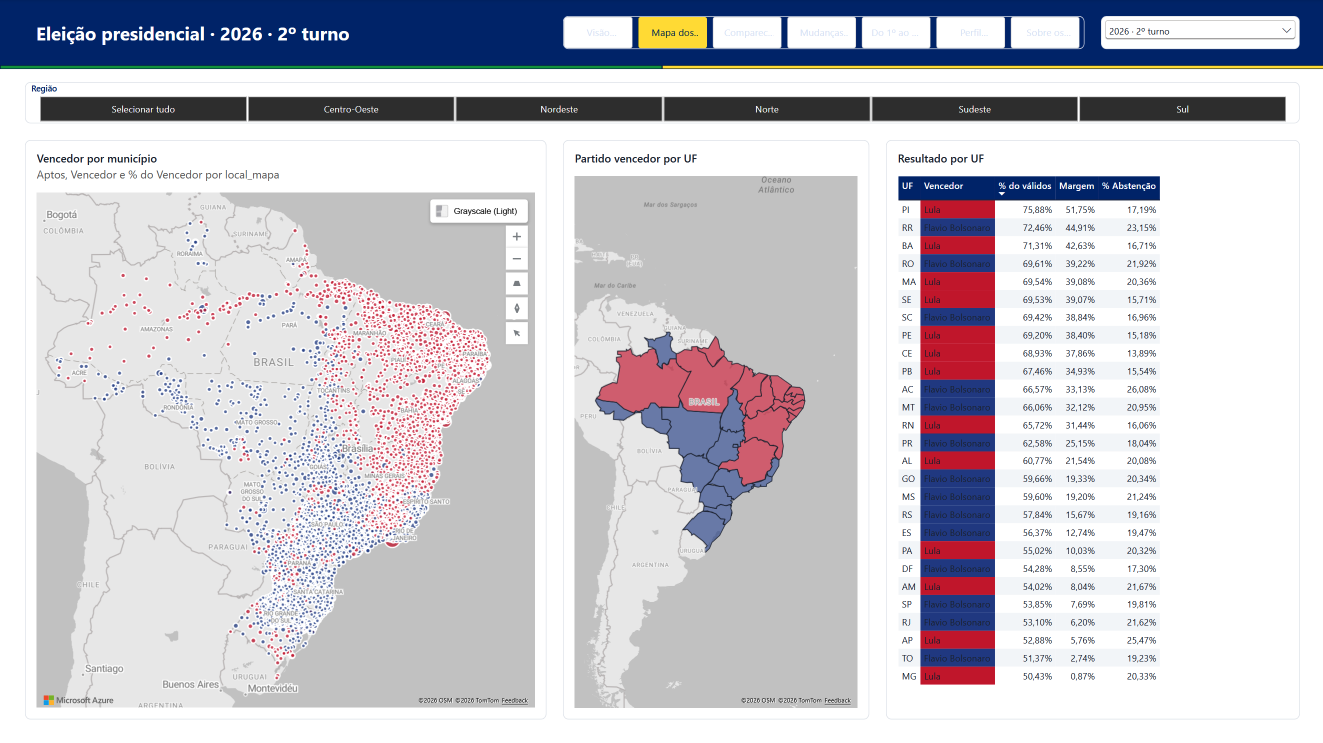

What the dashboard file says about the page in this screenshot:
{"tool":"powerbi","page":{"name":"Mapa dos vencedores","canvas":[1920,1080],"ordinal":1},"visuals":[{"type":"shape","box":[0,0,1920,96],"z":0},{"type":"shape","box":[0,96,960,6],"z":1000},{"type":"shape","box":[960,96,960,6],"z":2000},{"type":"cardVisual","fields":{"Data":["_Medidas.Título Eleição"]},"box":[36,24,756,48],"z":3000},{"type":"pageNavigator","box":[816,24,756,48],"z":4000},{"type":"slicer","fields":{"Values":["dTurno.rotulo_turno"]},"box":[1596,24,288,48],"z":5000},{"type":"azureMap","title":"Partido vencedor por UF","fields":{"Category":["dMunicipio.sg_uf_nome"]},"box":[816,204,444,840],"z":6000},{"type":"azureMap","title":"Vencedor por município","fields":{"Category":["dMunicipio.local_mapa"],"Size":["_Medidas.Aptos"]},"box":[36,204,756,840],"z":7000},{"type":"tableEx","title":"Resultado por UF","fields":{"Values":["dMunicipio.sg_uf","_Medidas.Vencedor","_Medidas.% do Vencedor","_Medidas.Margem de Vitória","_Medidas.% Abstenção"]},"box":[1284,204,600,840],"z":8000},{"type":"slicer","fields":{"Values":["dMunicipio.sg_regiao_nome"]},"box":[36,120,1848,60],"z":9000}]}

Visuals, with their boxes on the page's 1920x1080 design canvas (x1, y1, x2, y2). These are canvas units, not pixel positions in the 1323x743 screenshot, which may show the page scaled, cropped or inside an application window:
shape: 0 0 1920 96
shape: 0 96 960 102
shape: 960 96 1920 102
cardVisual - _Medidas.Título Eleição: 36 24 792 72
pageNavigator: 816 24 1572 72
slicer - dTurno.rotulo_turno: 1596 24 1884 72
"Partido vencedor por UF" azureMap: 816 204 1260 1044
"Vencedor por município" azureMap: 36 204 792 1044
"Resultado por UF" tableEx: 1284 204 1884 1044
slicer - dMunicipio.sg_regiao_nome: 36 120 1884 180
